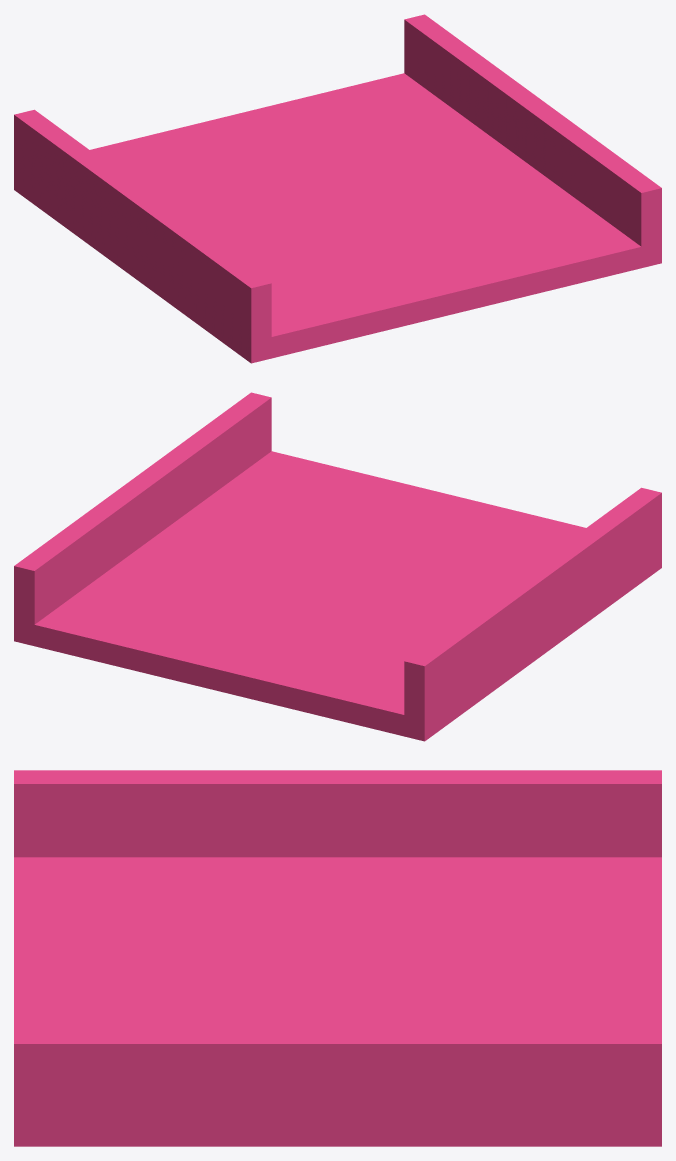
File: PinkRoof_2Edges.glb
3 views of the same model, one above another, from view 1: azimuth 30°, elevation 25°; view 2: azimuth 150°, elevation 25°; view 3: azimuth 270°, elevation 25° (orthographic). The views are drawn at different scales.
Parts seen in each view (by area): view 1: roof_flat_2Edges_pink; view 2: roof_flat_2Edges_pink; view 3: roof_flat_2Edges_pink.
Boxes of the visible parts, <box> form: roof_flat_2Edges_pink: <box>14,14,661,363</box>; roof_flat_2Edges_pink: <box>14,392,661,741</box>; roof_flat_2Edges_pink: <box>14,770,661,1146</box>.
Size of what is drawn, in the model's own units: 4 by 0.7 by 4.
1 material, 1 textured.
